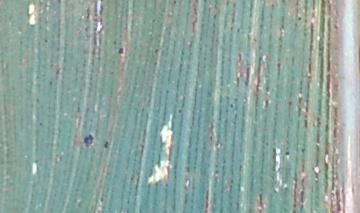tarspot: (84, 133, 94, 147), (117, 47, 124, 55), (284, 150, 291, 157), (105, 139, 110, 148), (297, 15, 303, 21)
